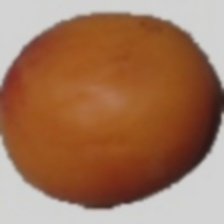apricot: (26, 36, 219, 191)
